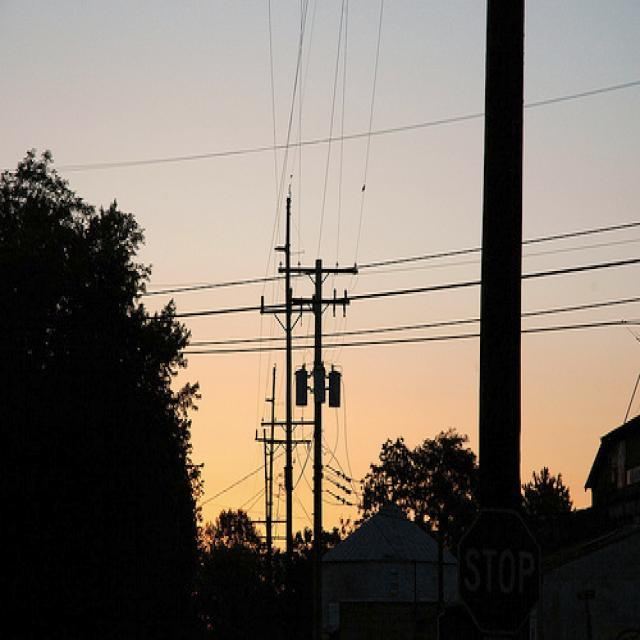crossarm: (278, 259, 360, 286), (291, 292, 352, 313)
pole: (476, 0, 526, 515), (312, 258, 325, 559), (284, 196, 293, 546)
transformer: (292, 365, 311, 409), (326, 369, 343, 409)
wire: (58, 78, 640, 173), (134, 221, 639, 297), (149, 257, 639, 322), (186, 297, 639, 348), (168, 319, 640, 356)
